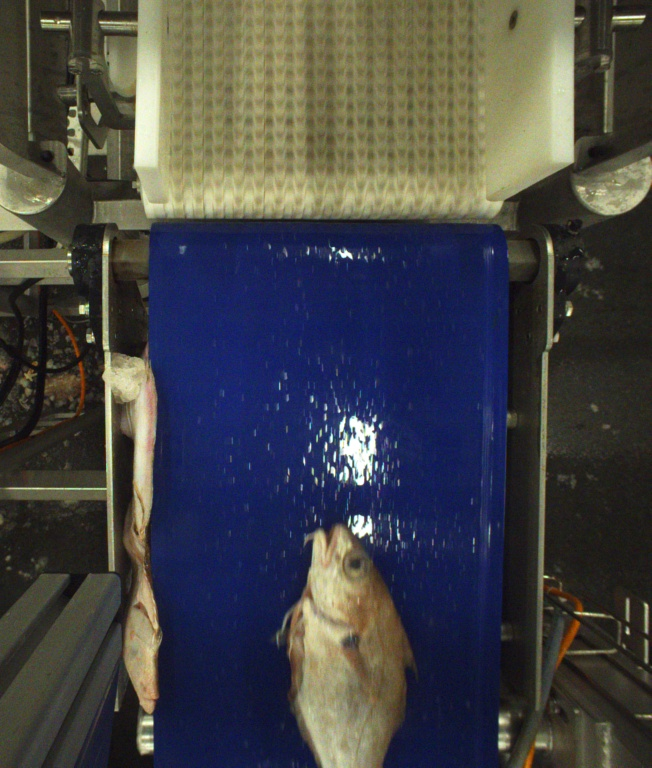BIB: (287, 526, 414, 768)
